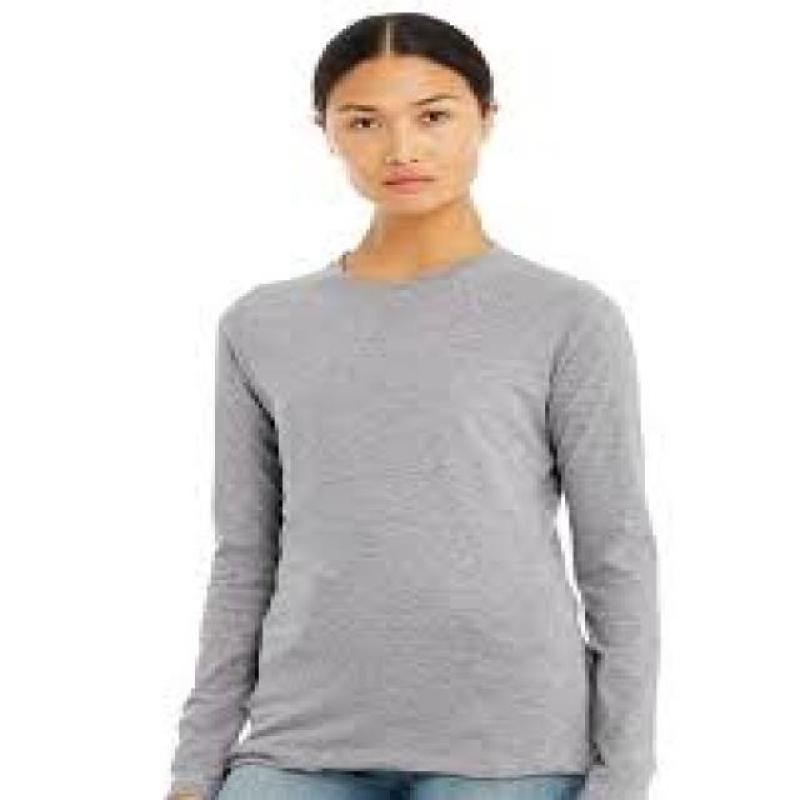long sleeve shirt: (170, 240, 661, 800)
trousers: (216, 759, 587, 800)
